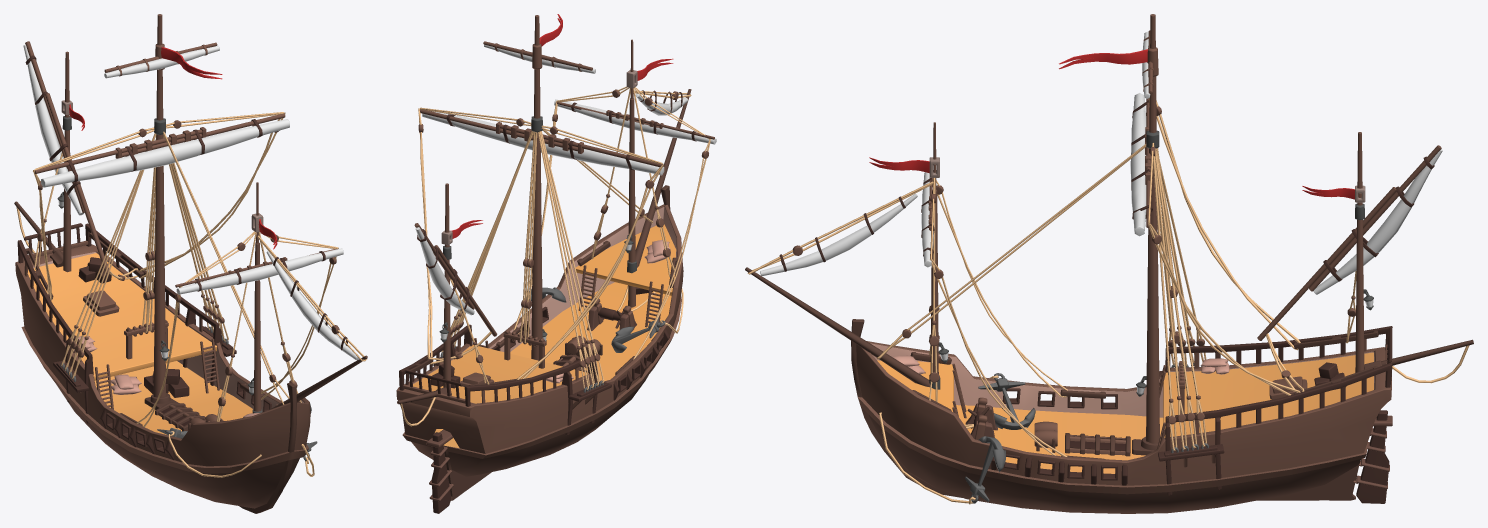
Rendered from pirate_ship_001.gltf.
3 renders of one model, left to right at view 1: azimuth 30°, elevation 25°; view 2: azimuth 150°, elevation 25°; view 3: azimuth 270°, elevation 25°, orthographic. The views are drawn at different scales.
Parts seen in each view (by area): view 1: pirate_ship_001; view 2: pirate_ship_001; view 3: pirate_ship_001.
Part boxes in pixels (x1,y1,x2,y2): pirate_ship_001: [14, 14, 367, 513]; pirate_ship_001: [396, 14, 716, 513]; pirate_ship_001: [745, 14, 1473, 513].
Size of the model in its own units: 20.82 by 34.34 by 46.51.
2 materials, 1 textured.
